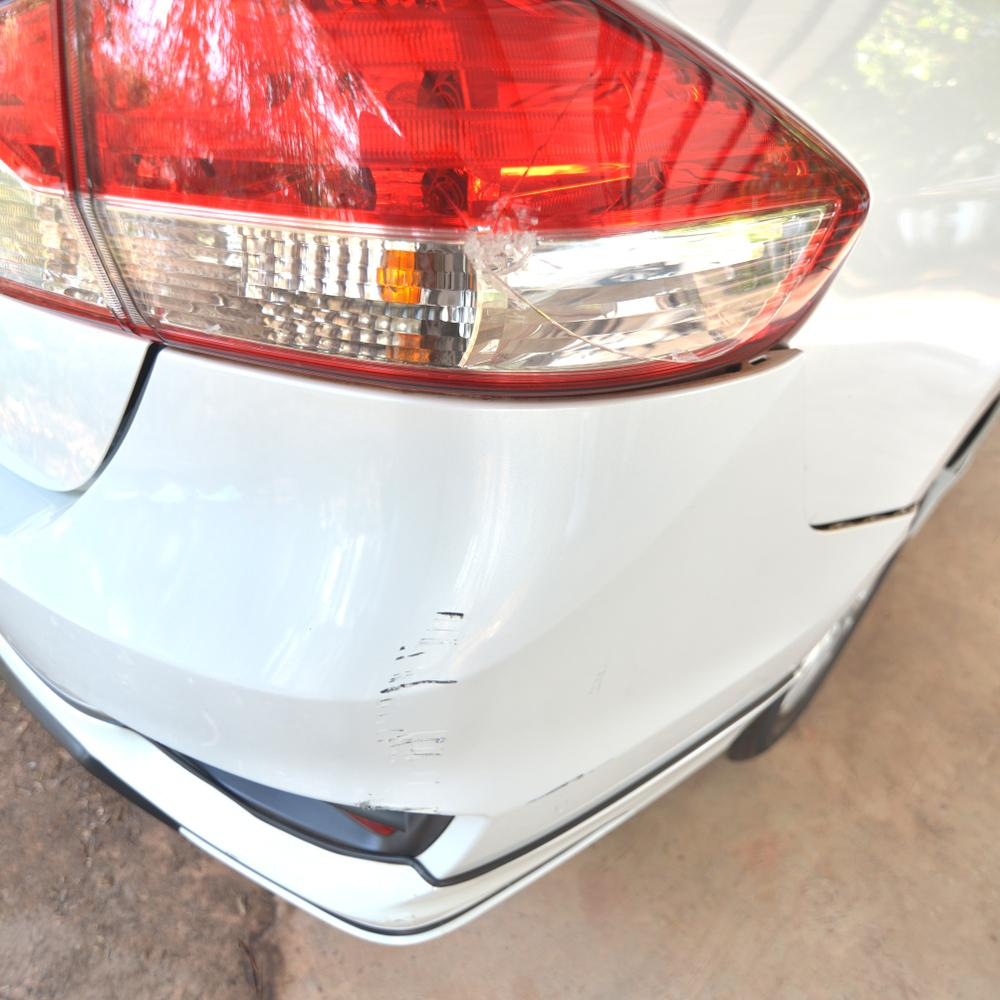lamp broken: (57, 0, 871, 397)
scratch: (362, 599, 474, 768)
